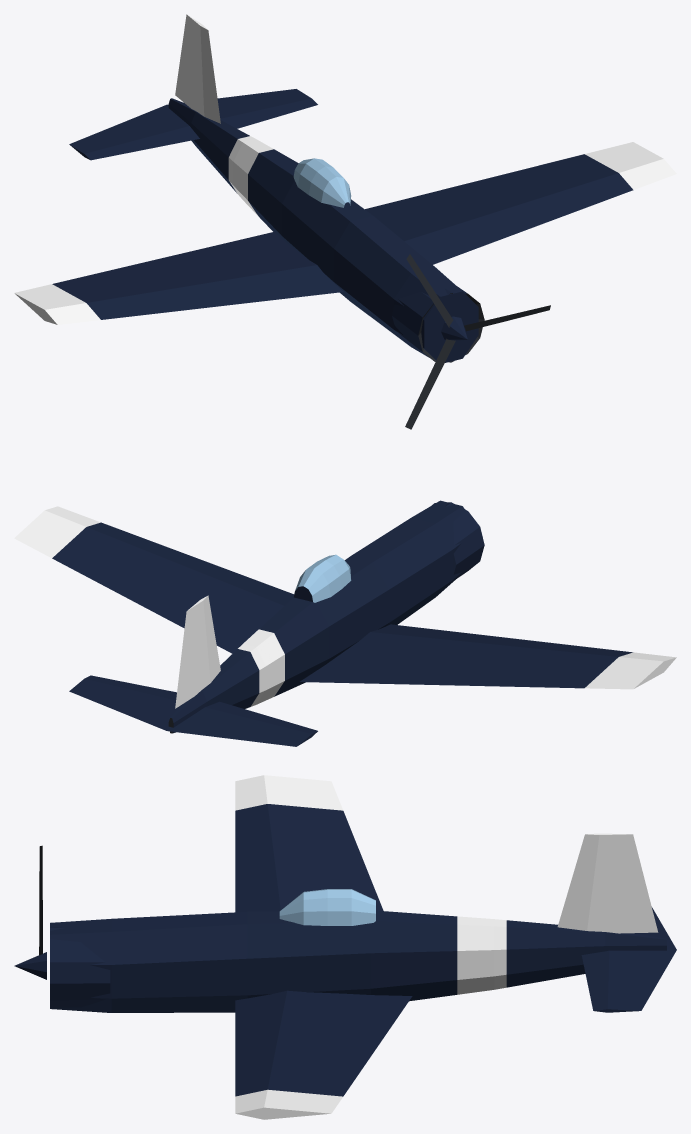
The picture shows the model from 3 angles, top to bottom: view 1: azimuth 30°, elevation 25°; view 2: azimuth 150°, elevation 25°; view 3: azimuth 270°, elevation 25°; orthographic projection. The views are drawn at different scales.
Visible parts, largest first — view 1: body, prop; view 2: body; view 3: body, prop.
Part boxes in pixels (bbox=[...]): body: bbox=[14, 14, 676, 362]; prop: bbox=[405, 254, 550, 429]; body: bbox=[14, 500, 676, 746]; body: bbox=[50, 775, 676, 1119]; prop: bbox=[14, 845, 46, 979].
Size of the model in its own units: 13.06 by 4.17 by 11.01.
